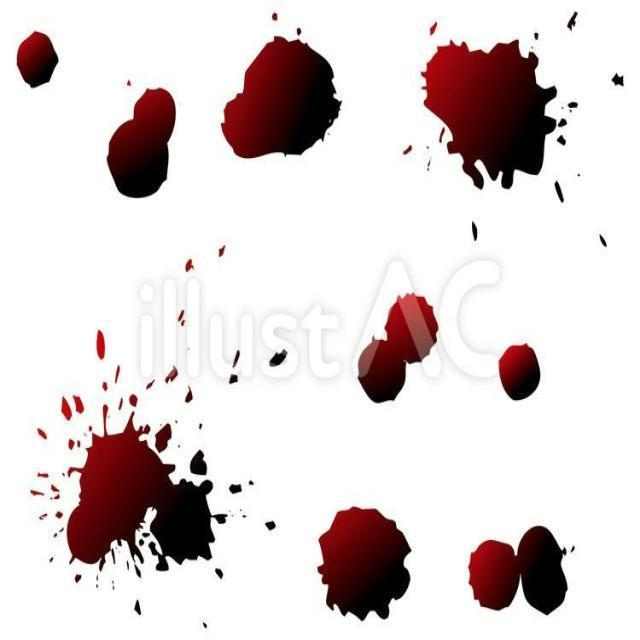flood: (56, 354, 234, 576), (406, 22, 572, 192), (21, 27, 188, 189), (222, 28, 360, 168), (318, 490, 416, 618), (466, 504, 580, 608), (350, 284, 443, 402)
